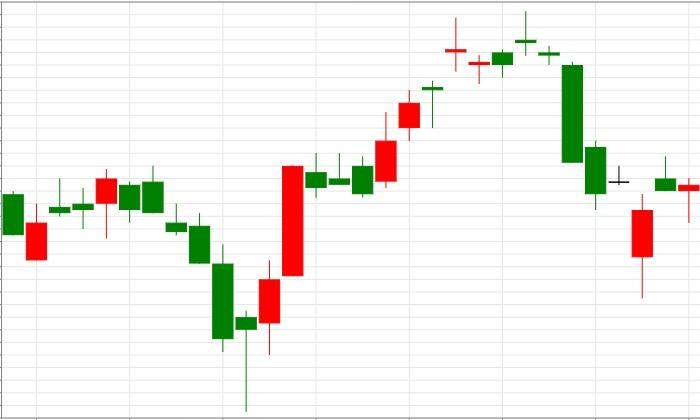hanging_man_fall: (26, 169, 117, 261)
